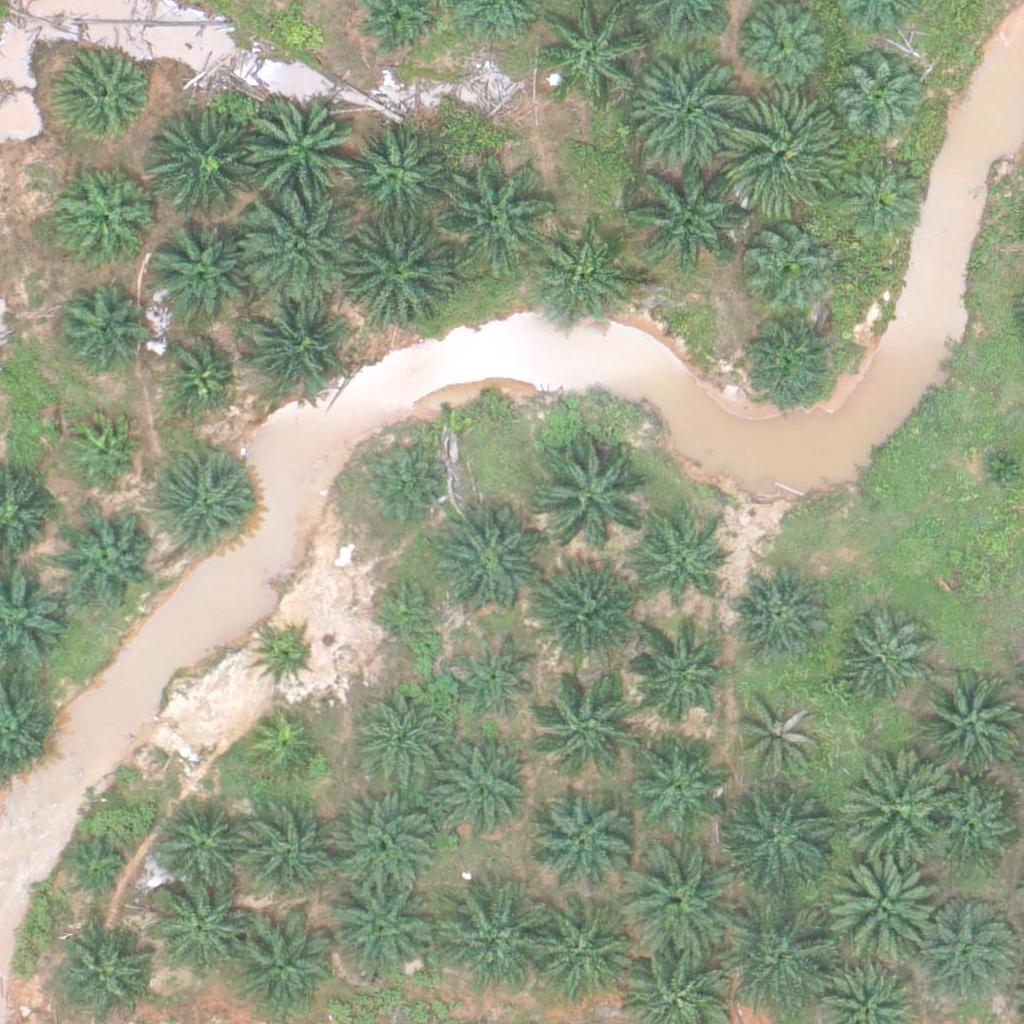Kelapa_Sawit: (338, 216, 451, 330), (535, 434, 648, 547), (429, 507, 542, 620), (327, 785, 440, 898), (324, 873, 437, 986), (726, 95, 839, 208), (145, 112, 258, 225), (534, 665, 646, 779), (432, 882, 544, 996), (638, 56, 750, 170), (838, 750, 950, 863), (825, 848, 937, 961), (727, 903, 839, 1016), (723, 782, 835, 895), (627, 158, 739, 271), (621, 844, 733, 957), (522, 901, 634, 1014), (525, 562, 637, 675), (438, 158, 550, 271), (246, 191, 358, 304), (245, 95, 357, 208), (917, 897, 1017, 998), (831, 608, 931, 709), (627, 628, 727, 729), (529, 790, 629, 891), (146, 221, 246, 322), (429, 741, 529, 842), (237, 807, 337, 908), (152, 798, 252, 899), (345, 122, 445, 223), (737, 310, 837, 410), (728, 563, 828, 663), (627, 732, 727, 832), (534, 231, 634, 331), (244, 296, 344, 396), (154, 456, 254, 556), (352, 689, 452, 789), (147, 878, 247, 978), (57, 164, 157, 264), (60, 509, 160, 609), (55, 49, 155, 149), (927, 781, 1015, 869), (741, 217, 829, 305), (452, 635, 540, 723), (357, 443, 445, 531), (54, 281, 142, 369), (838, 152, 926, 240), (737, 694, 824, 782), (639, 524, 726, 612), (836, 60, 923, 148), (66, 412, 141, 488), (161, 338, 236, 413), (369, 574, 444, 649), (245, 712, 320, 787), (60, 836, 135, 911), (254, 625, 317, 688)
